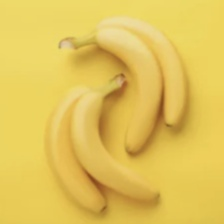banana: (44, 26, 211, 224)
